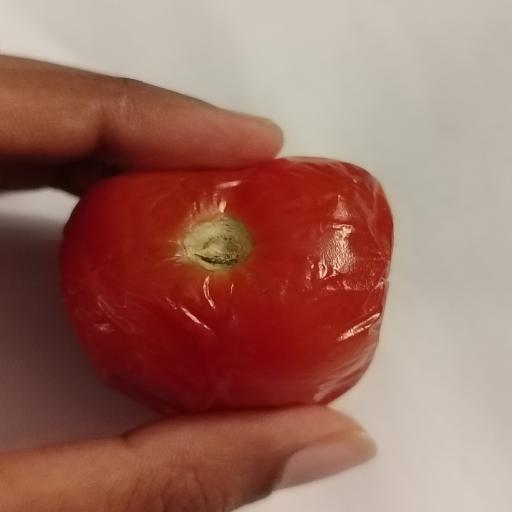spoiled: (60, 158, 393, 415)
